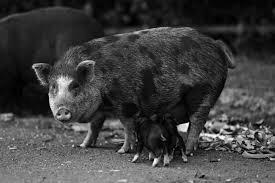wildboar: (31, 25, 238, 156)
